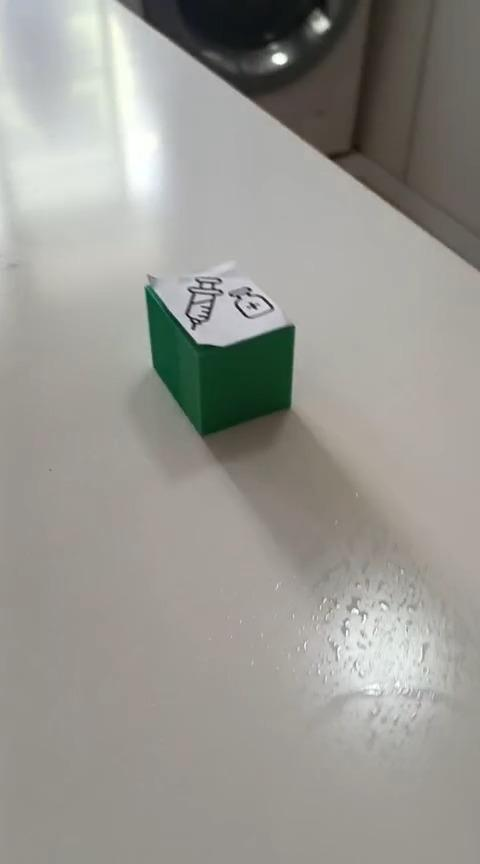antiseptic cream: (143, 258, 296, 437)
